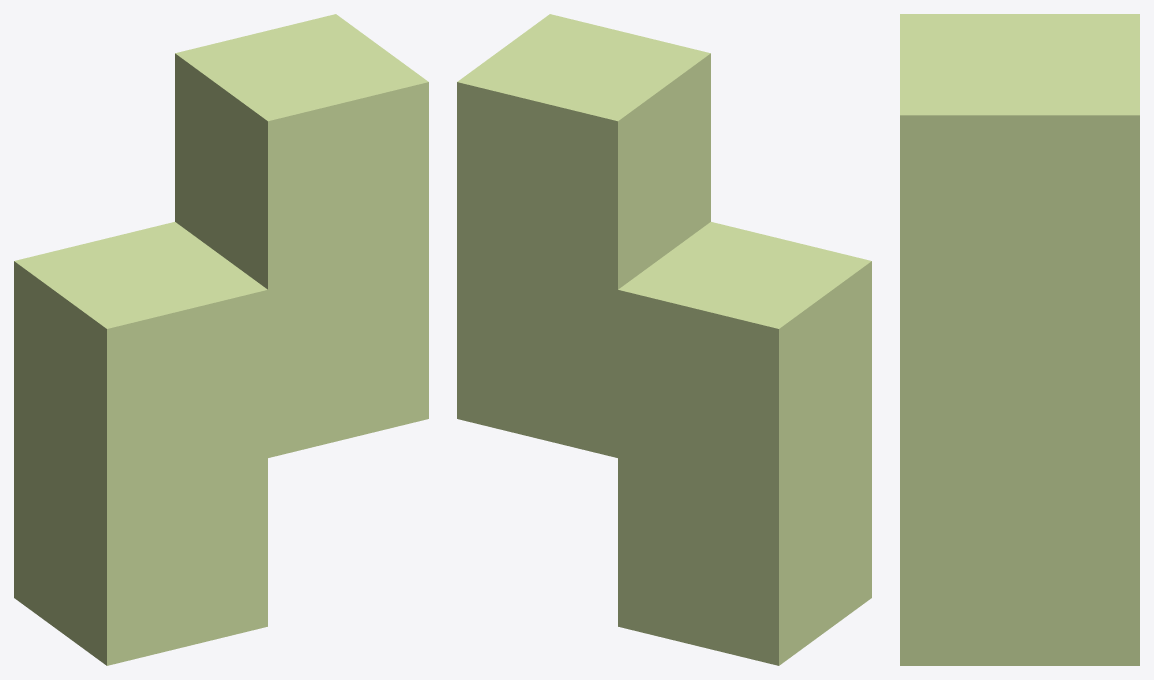
Rendered from two.obj.
The picture shows the model from 3 angles, left to right: view 1: azimuth 30°, elevation 25°; view 2: azimuth 150°, elevation 25°; view 3: azimuth 270°, elevation 25°; orthographic projection. The views are drawn at different scales.
Parts seen in each view (by area): view 1: two; view 2: two; view 3: two.
Boxes of the visible parts, <box> form: two: <box>14,14,428,665</box>; two: <box>457,14,871,665</box>; two: <box>900,14,1139,665</box>.
Size of the model in its own units: 2 by 3 by 1.
1 material, 1 textured.
